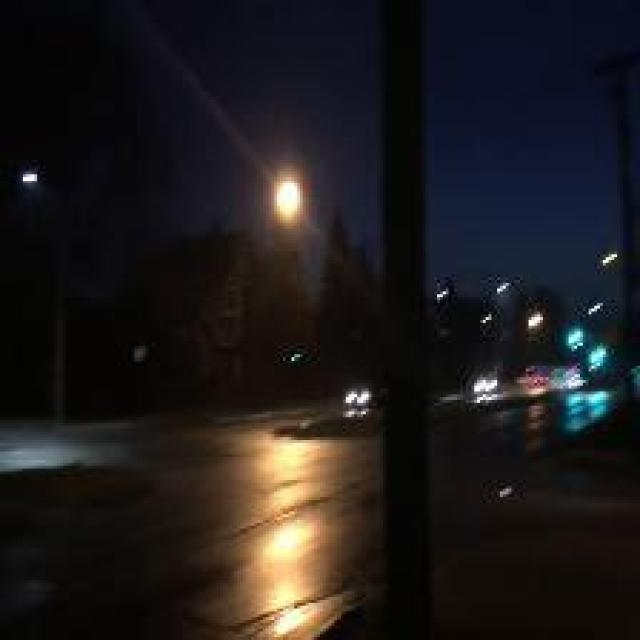other: (246, 459, 303, 633), (505, 284, 573, 408), (243, 158, 333, 231)
